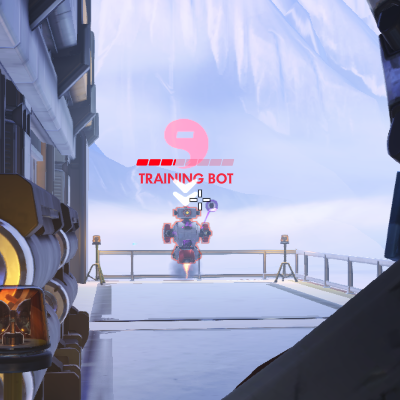hpbar: (136, 158, 234, 166)
